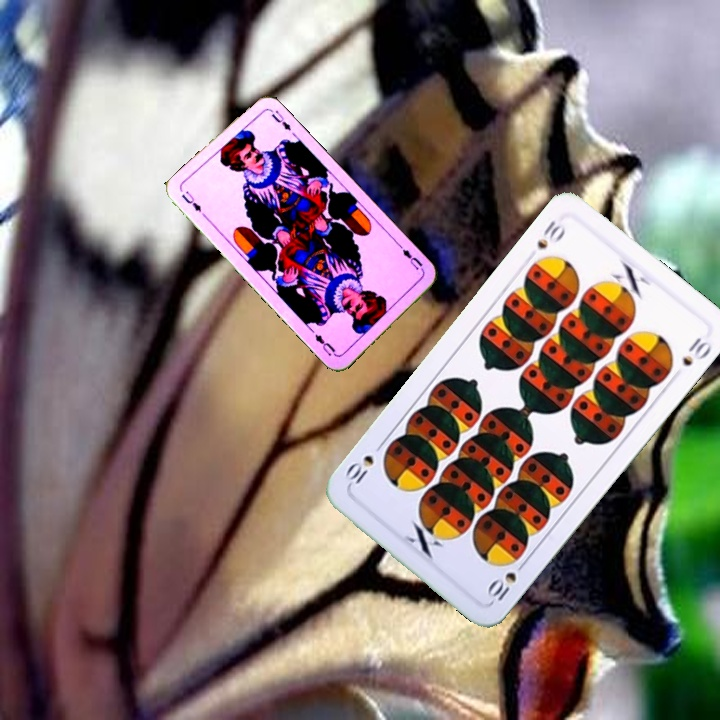EU: (398, 245, 427, 275), (177, 187, 204, 215)
S10: (483, 556, 530, 605), (532, 216, 568, 252)
